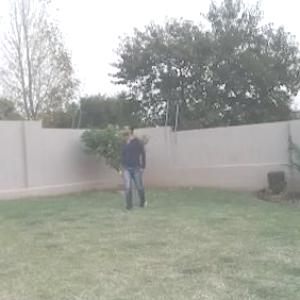follow: (119, 120, 151, 219)
